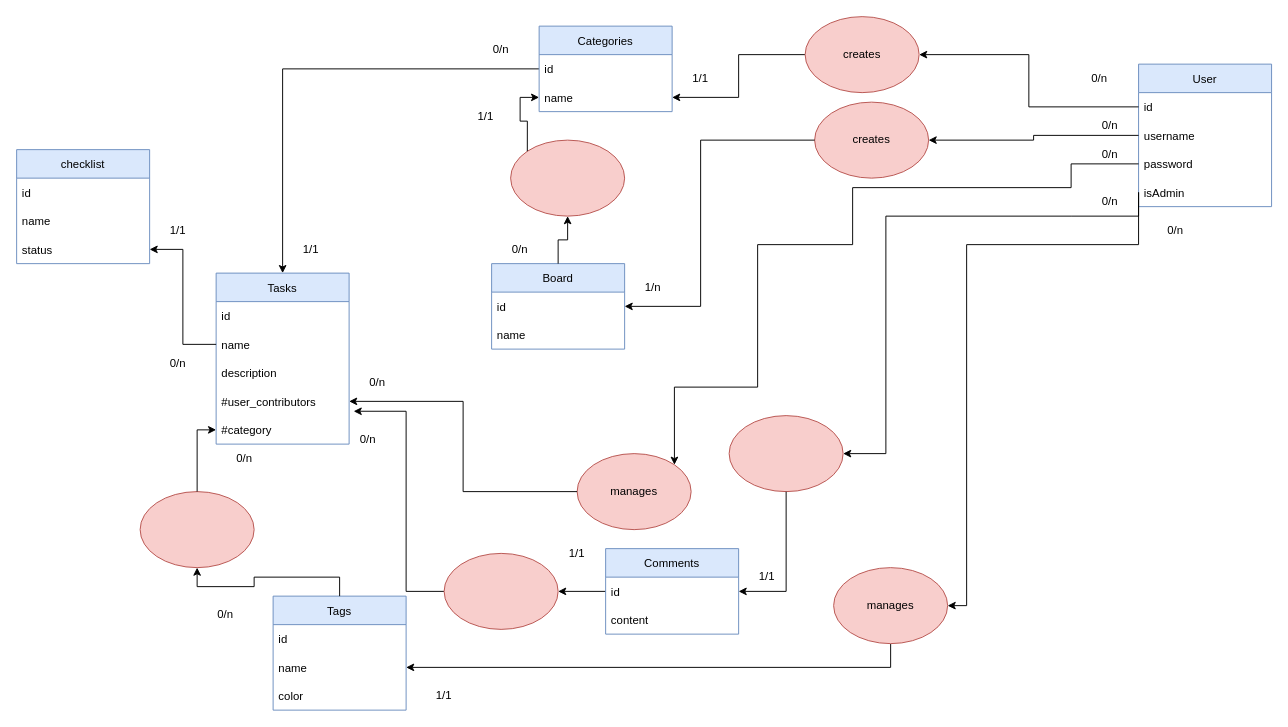
Some shapes in this 1288 by 727 pixel diagram are drawn without their labels. The shapes that lost their labels are listed below. From the top down, each one's centre as x and y in pixels, then its label:
At [567,177]: "contains".
At [785,453]: "posts".
At [196,529]: "specifies".
At [500,590]: "add to".
